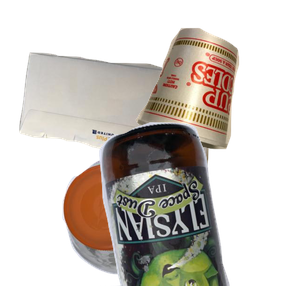glass: (97, 120, 300, 300)
paper: (17, 50, 231, 230)
plastic: (60, 152, 237, 300)
trash: (133, 25, 300, 167)
